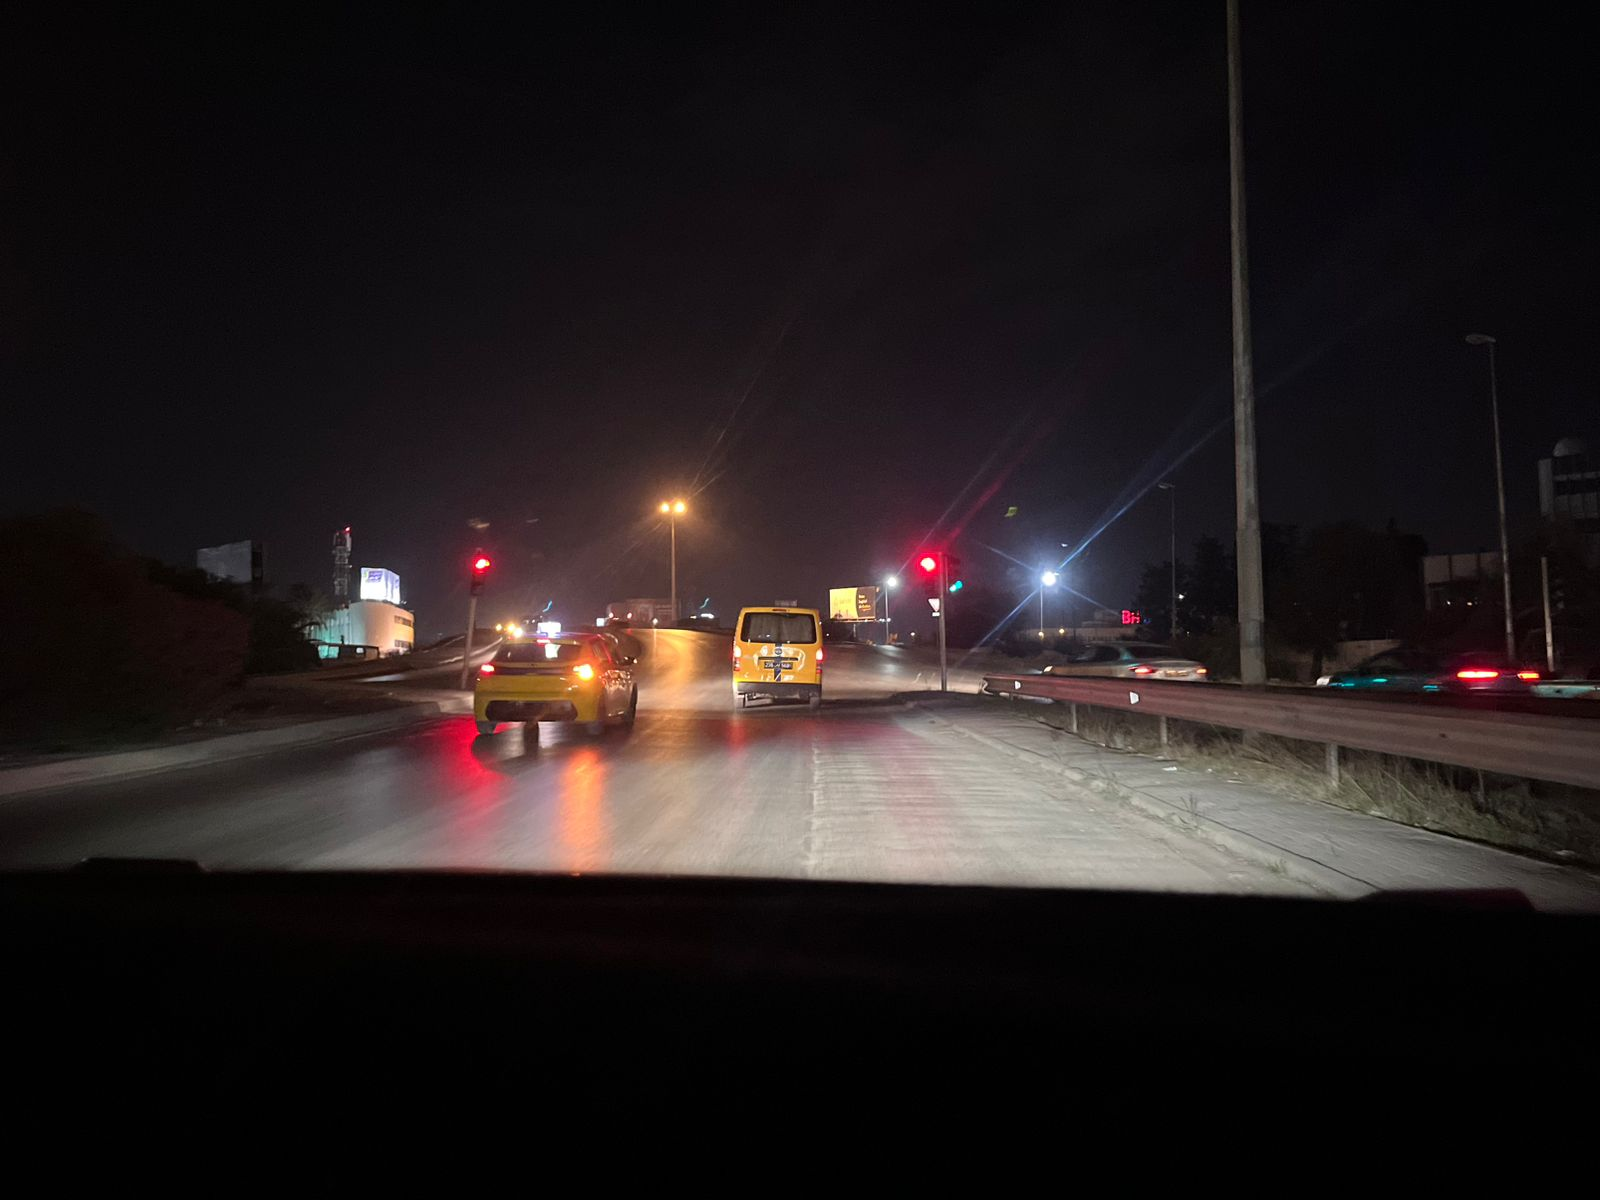RedLight: (466, 548, 491, 601), (918, 550, 941, 600)
